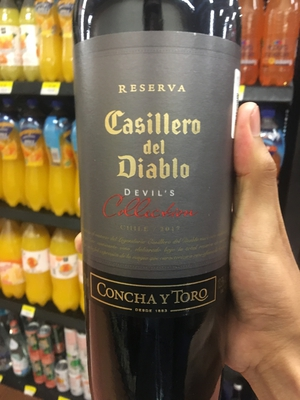casillero del diablo devils collection rojo: (69, 9, 252, 400)
